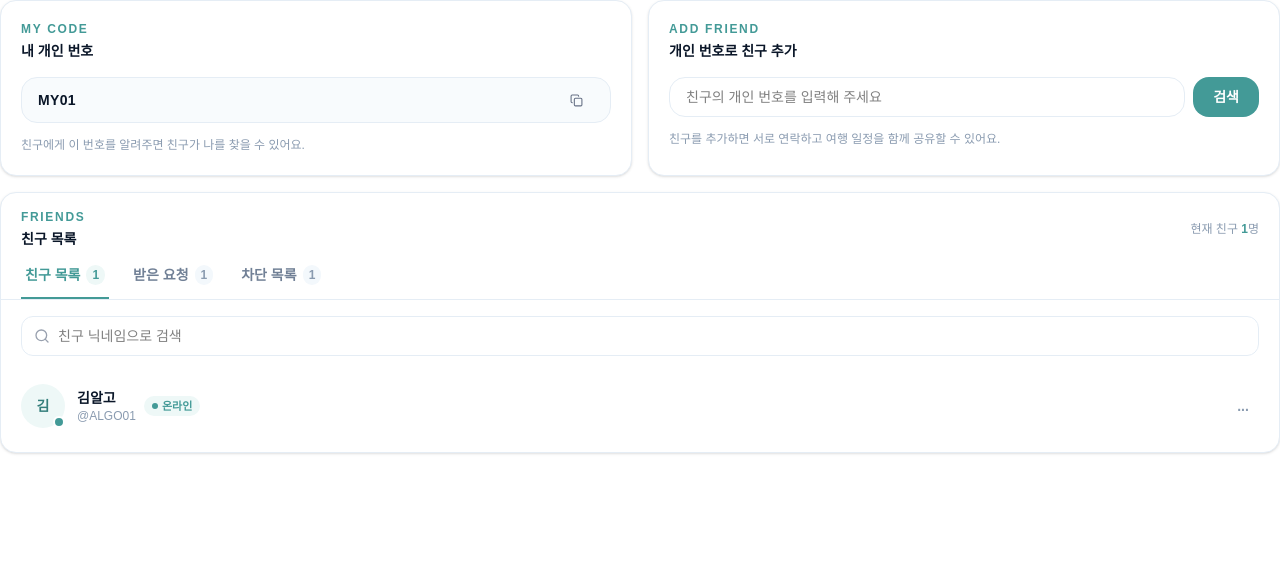
Test: FriendManagement 컴포넌트 테스트 › 친구 요청을 거절하면 목록에서 사라진다
Expected: the text "김알고" is shown, [77, 390, 116, 406]
What coordinates should you click on to do the following:
click the button "받은 요청 1"
I would click on:
 (173, 282)
Its box is [129, 265, 217, 299].
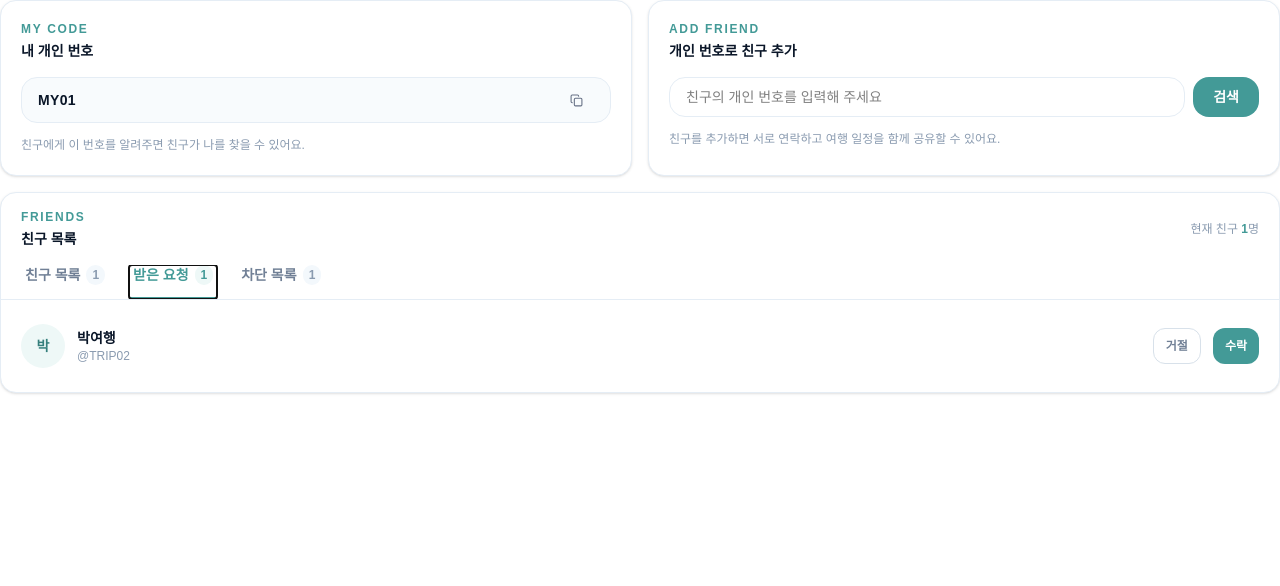
Expected: the text "박여행" is shown, [77, 330, 116, 346]
What coordinates should you click on to do the following:
click the button "거절"
I would click on:
 (1177, 346)
Its box is [1153, 328, 1201, 364].
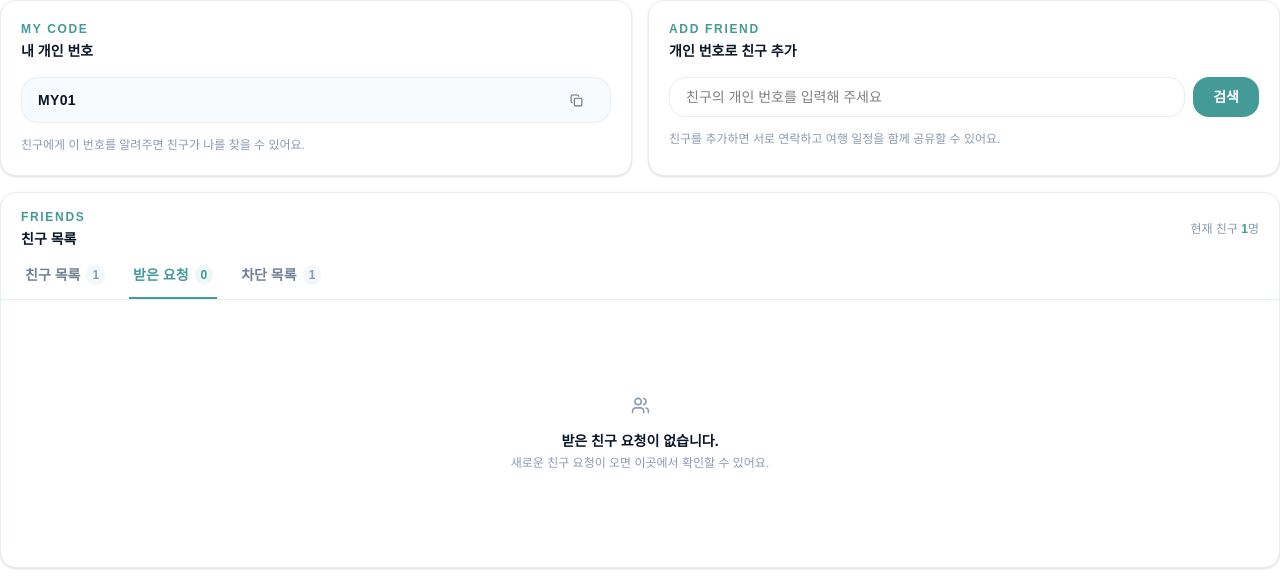
Expected: the text "박여행" is gone
